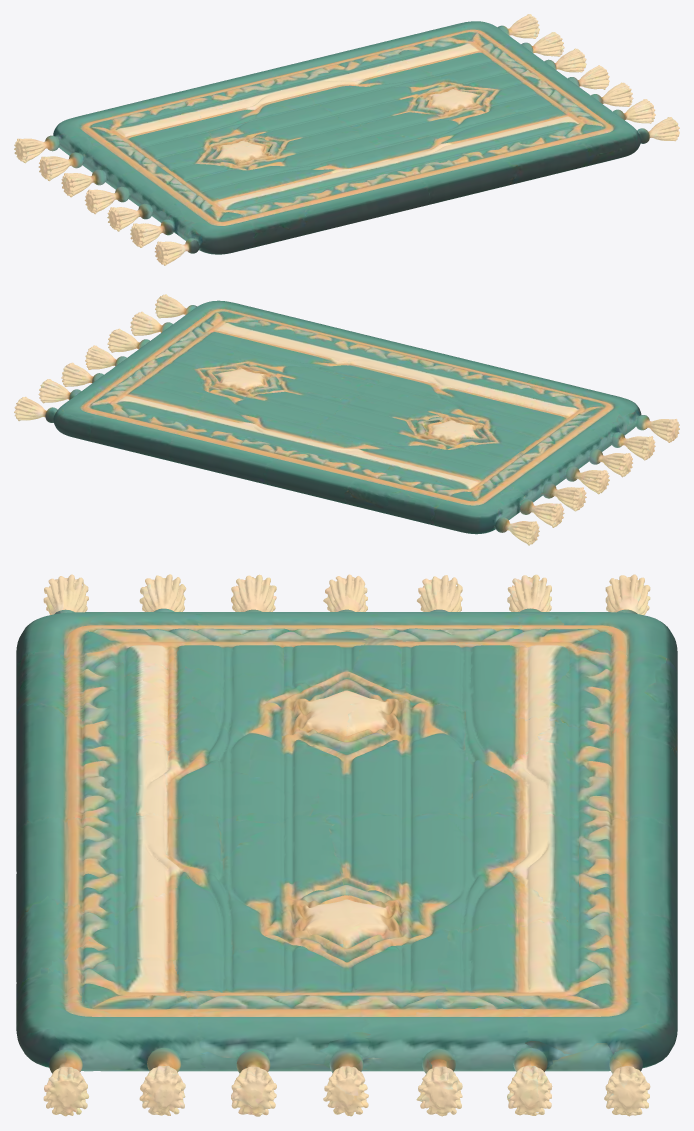
The model's file is prayer-rug-variant-05-teal-star-medallion.glb.
The picture shows the model from 3 angles, top to bottom: view 1: azimuth 30°, elevation 25°; view 2: azimuth 150°, elevation 25°; view 3: azimuth 270°, elevation 25°; orthographic projection. The views are drawn at different scales.
Parts seen in each view (by area): view 1: mesh_node; view 2: mesh_node; view 3: mesh_node.
Boxes of the visible parts, x1,y1,x2,y2 form: mesh_node: (14,14,679,265); mesh_node: (14,294,679,545); mesh_node: (16,574,677,1116).
Bounding box in the file's own units: 1.9 × 0.1041 × 1.05.
1 material, 1 textured.
